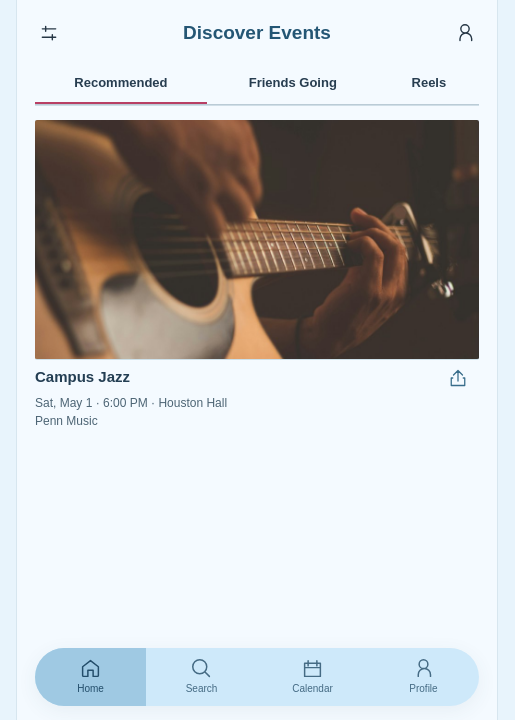
it: recommended feed displays real API results and anonymous friends tab offers login
Expected: the link named "View Campus Jazz" is shown, [35, 120, 479, 360]
Step 1. Click the tab "Friends Going" → (293, 84), box [207, 64, 379, 104]
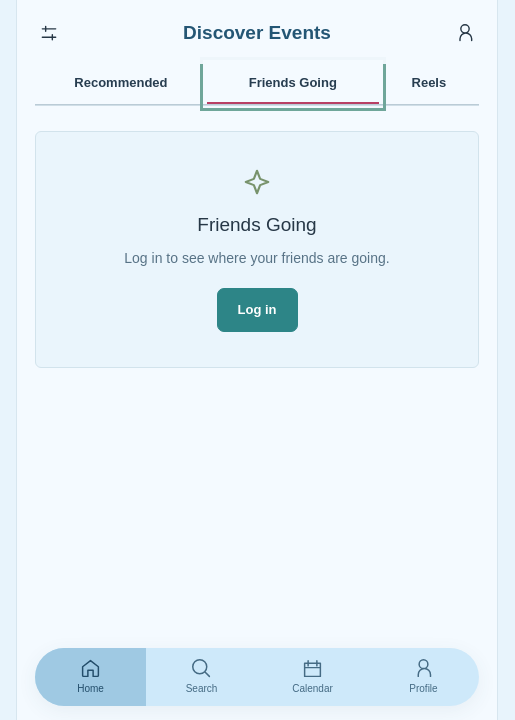
Expected: the link named "Log in" is shown, [455, 23, 475, 43]
Expected: the heading "Friends Going" is shown, [197, 214, 317, 235]
